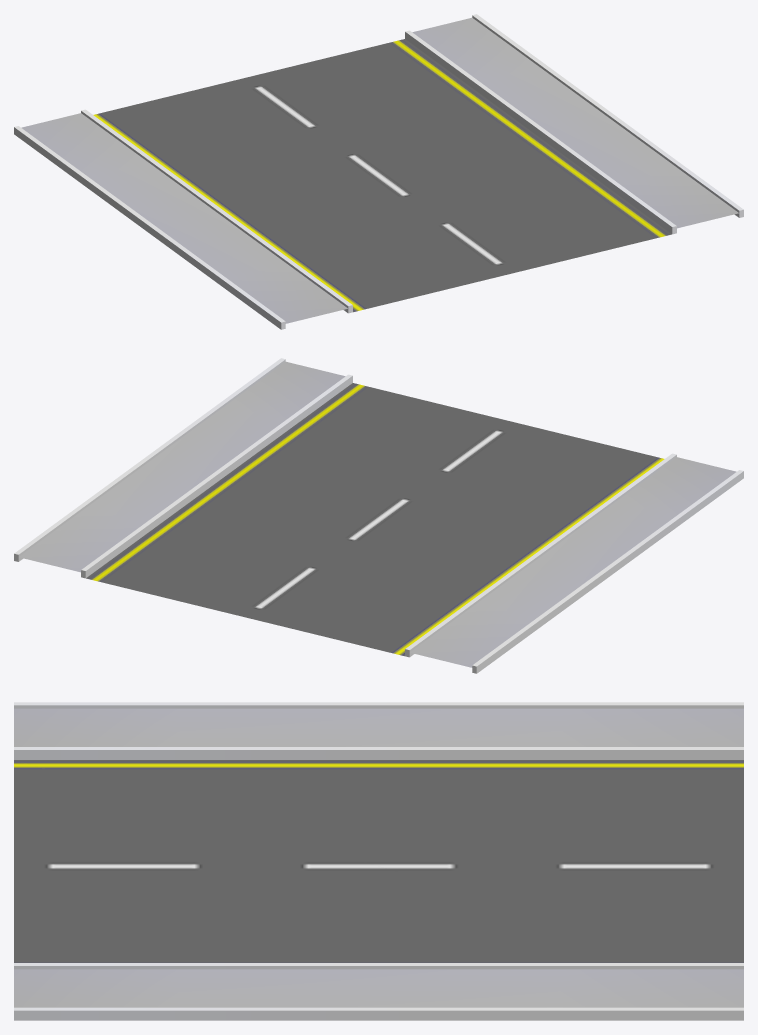
File: ROAD_straight.FBX
The picture shows the model from 3 angles, top to bottom: view 1: azimuth 30°, elevation 25°; view 2: azimuth 150°, elevation 25°; view 3: azimuth 270°, elevation 25°; orthographic projection. The views are drawn at different scales.
Parts seen in each view (by area): view 1: ROAD_straight; view 2: ROAD_straight; view 3: ROAD_straight.
Boxes of the visible parts, box(x1,y1,x2,y2) form: ROAD_straight: box(14, 14, 743, 329); ROAD_straight: box(14, 358, 743, 673); ROAD_straight: box(14, 702, 743, 1020).
Bounding box in the file's own units: 1 × 0.015 × 1.
